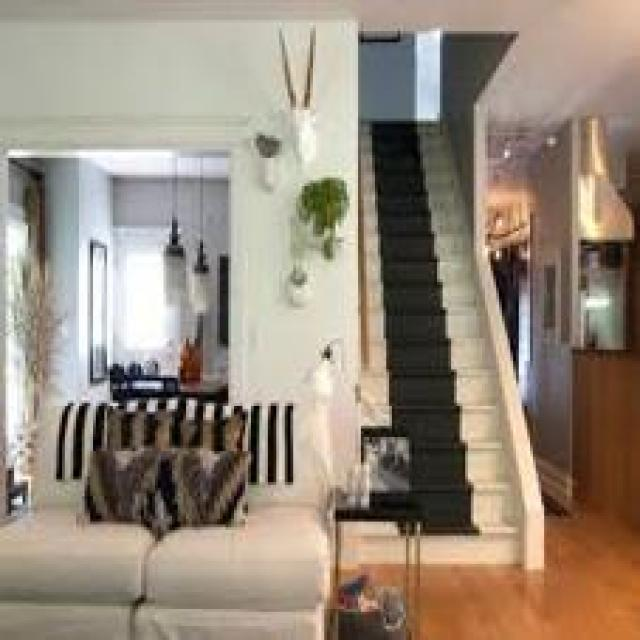upstair: (339, 357, 545, 557)
